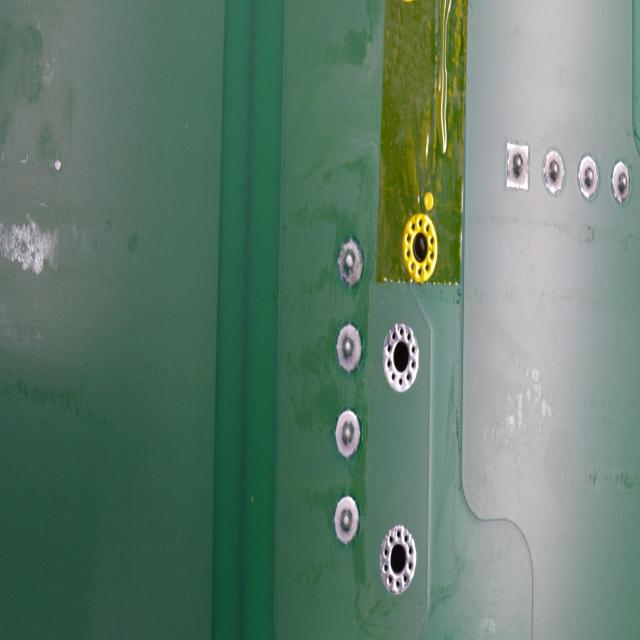spillover: (0, 204, 70, 280), (52, 156, 63, 172)
